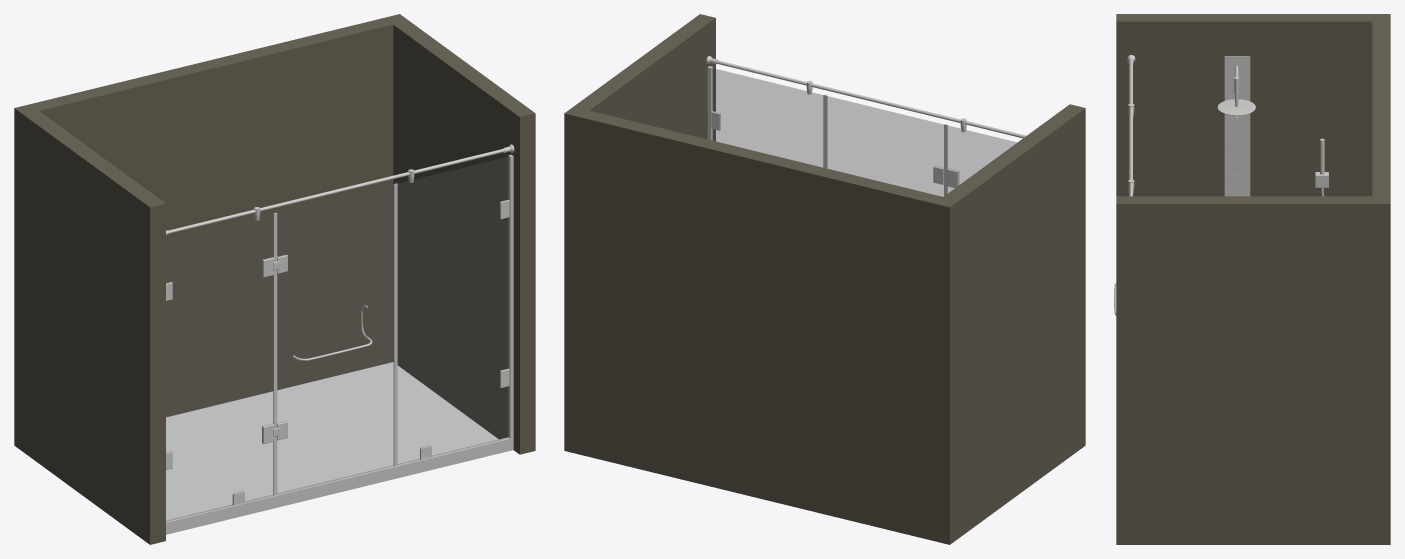
Rendered from Shower_enclosures_006.gltf.
3 views of the same model, side by side, from view 1: azimuth 30°, elevation 25°; view 2: azimuth 150°, elevation 25°; view 3: azimuth 270°, elevation 25° (orthographic).
Visible parts, largest first — view 1: Shower_enclosures_006; view 2: Shower_enclosures_006; view 3: Shower_enclosures_006.
Part boxes in pixels (left/top/right/bottom): Shower_enclosures_006: left=14, top=14, right=535, bottom=544; Shower_enclosures_006: left=564, top=14, right=1085, bottom=544; Shower_enclosures_006: left=1114, top=14, right=1390, bottom=544.
Size of the model in its own units: 2.32 by 1.94 by 1.42.
Materials: 2 (2 with a texture image).
